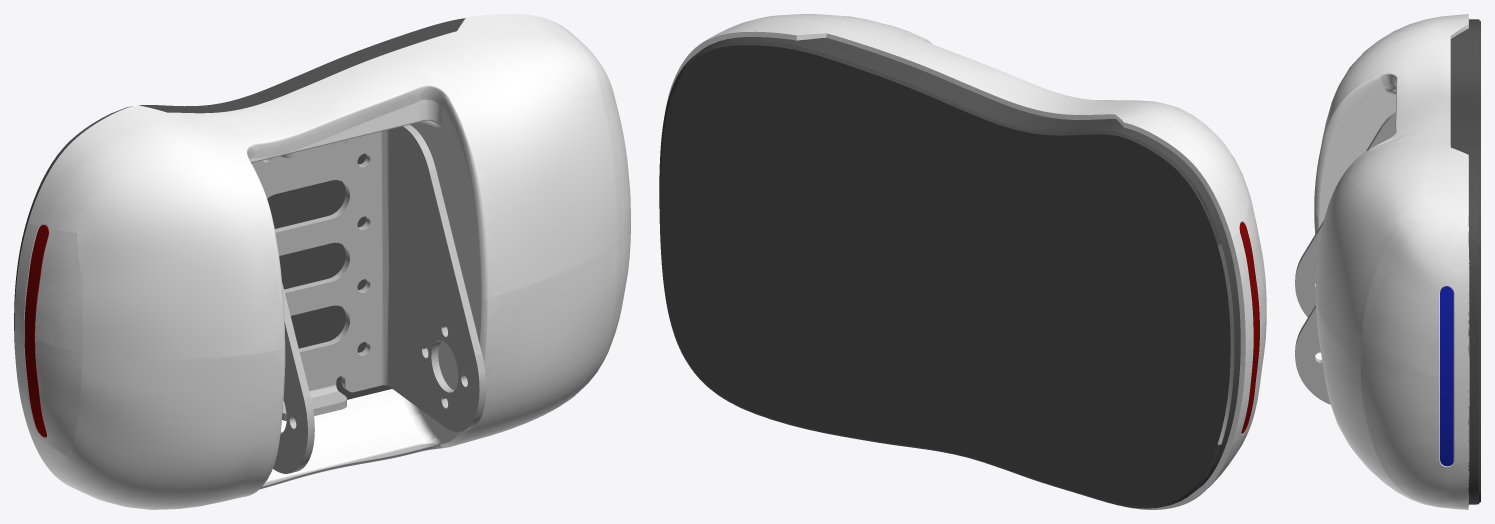
File: l_ankle_roll_link.obj
3 renders of one model, left to right at view 1: azimuth 30°, elevation 25°; view 2: azimuth 150°, elevation 25°; view 3: azimuth 270°, elevation 25°, orthographic. The views are drawn at different scales.
Bounding box in the file's own units: 0.1278 × 0.0815 × 0.041.
